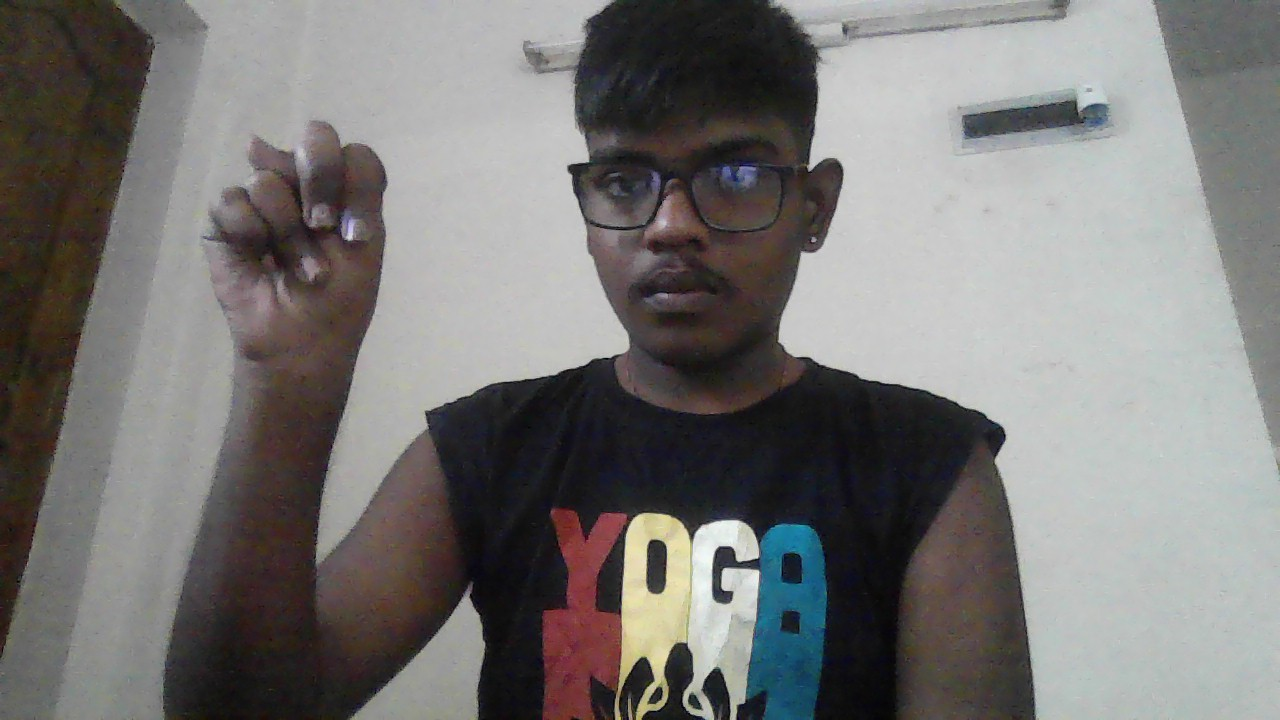N: (203, 122, 389, 365)
